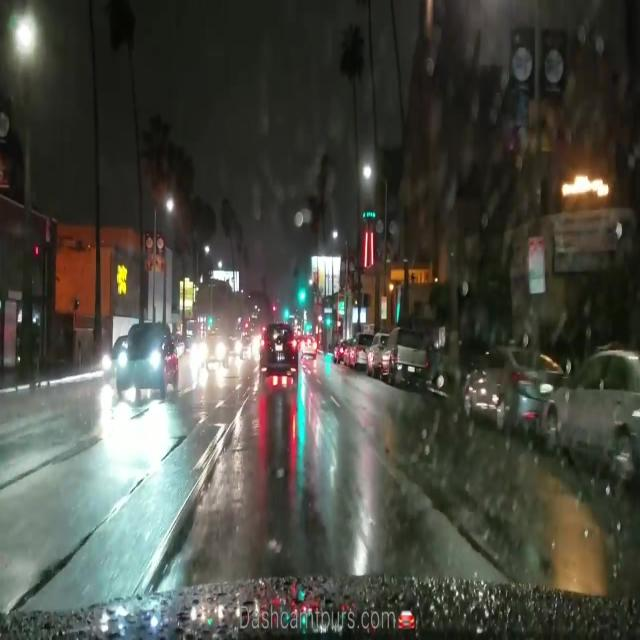Car: (538, 349, 639, 473), (461, 345, 534, 434), (113, 320, 177, 394), (381, 328, 426, 383), (262, 319, 297, 378)
